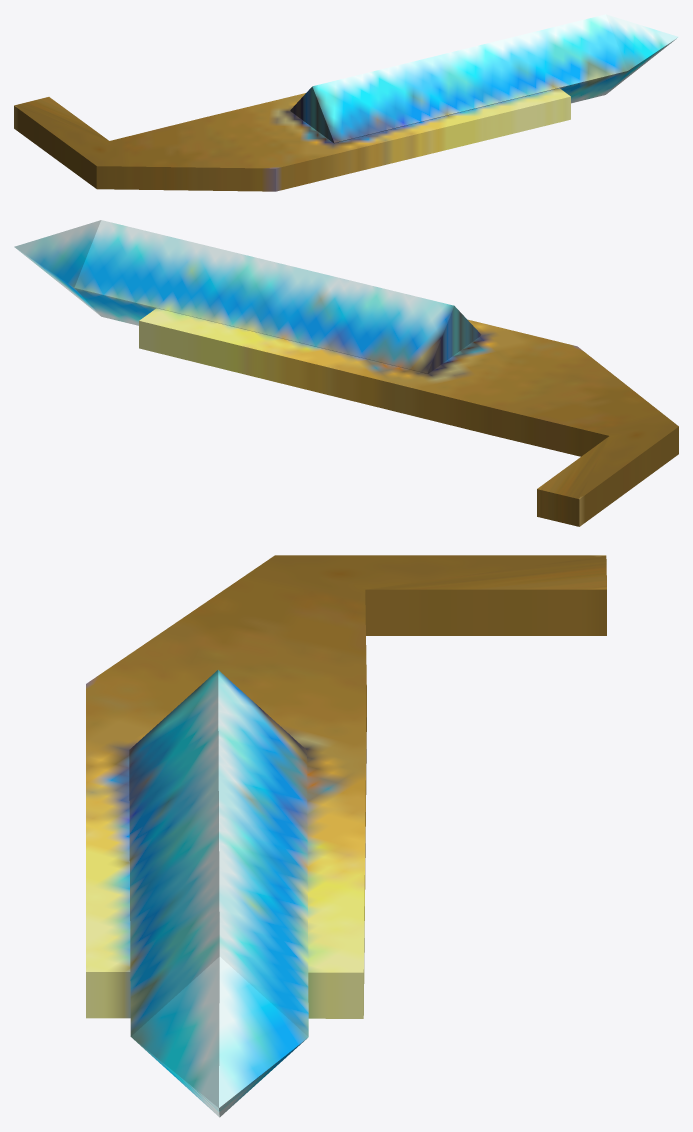
3 views of the same model, one above another, from view 1: azimuth 30°, elevation 25°; view 2: azimuth 150°, elevation 25°; view 3: azimuth 270°, elevation 25° (orthographic). The views are drawn at different scales.
Parts seen in each view (by area): view 1: aw219; view 2: aw219; view 3: aw219.
Boxes of the visible parts, x1=… form: aw219: x1=14, y1=14, x2=678, y2=191; aw219: x1=14, y1=220, x2=678, y2=526; aw219: x1=86, y1=555, x2=606, y2=1117.
Bounding box in the file's own units: 21.98 × 2.98 × 8.73.
1 material, 1 textured.
